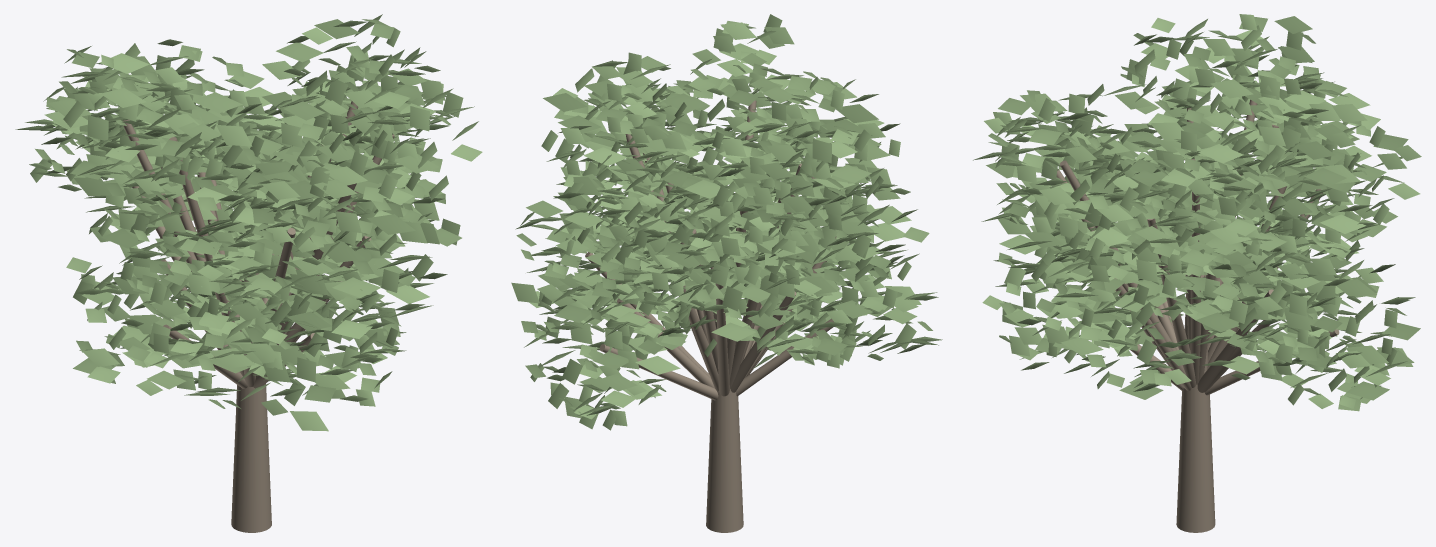
Rendered from tree.glb.
3 views of the same model, side by side, from view 1: azimuth 30°, elevation 25°; view 2: azimuth 150°, elevation 25°; view 3: azimuth 270°, elevation 25° (orthographic). The views are drawn at different scales.
Parts seen in each view (by area): view 1: individual-leaves, tree-bark; view 2: individual-leaves, tree-bark; view 3: individual-leaves, tree-bark.
Part boxes in pixels (x1=…): individual-leaves: x1=15, y1=14, x2=482, y2=431; tree-bark: x1=123, y1=101, x2=394, y2=532; individual-leaves: x1=511, y1=14, x2=942, y2=430; tree-bark: x1=585, y1=100, x2=836, y2=532; individual-leaves: x1=973, y1=14, x2=1421, y2=411; tree-bark: x1=1056, y1=99, x2=1339, y2=532.
Size of the model in its own units: 7.38 by 8.45 by 7.51.
